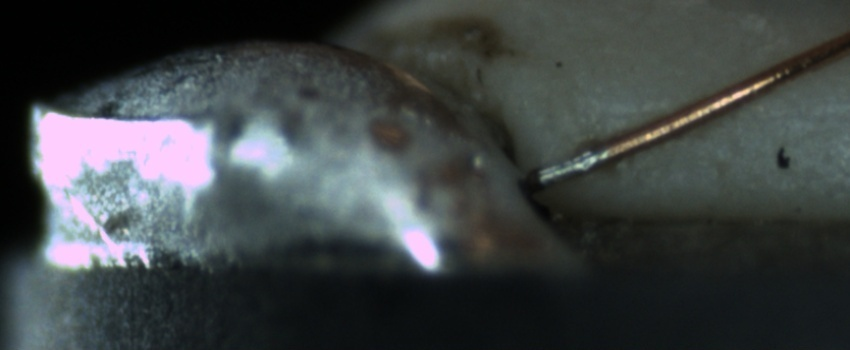DL: (624, 87, 850, 143)
TS: (526, 143, 610, 189)
